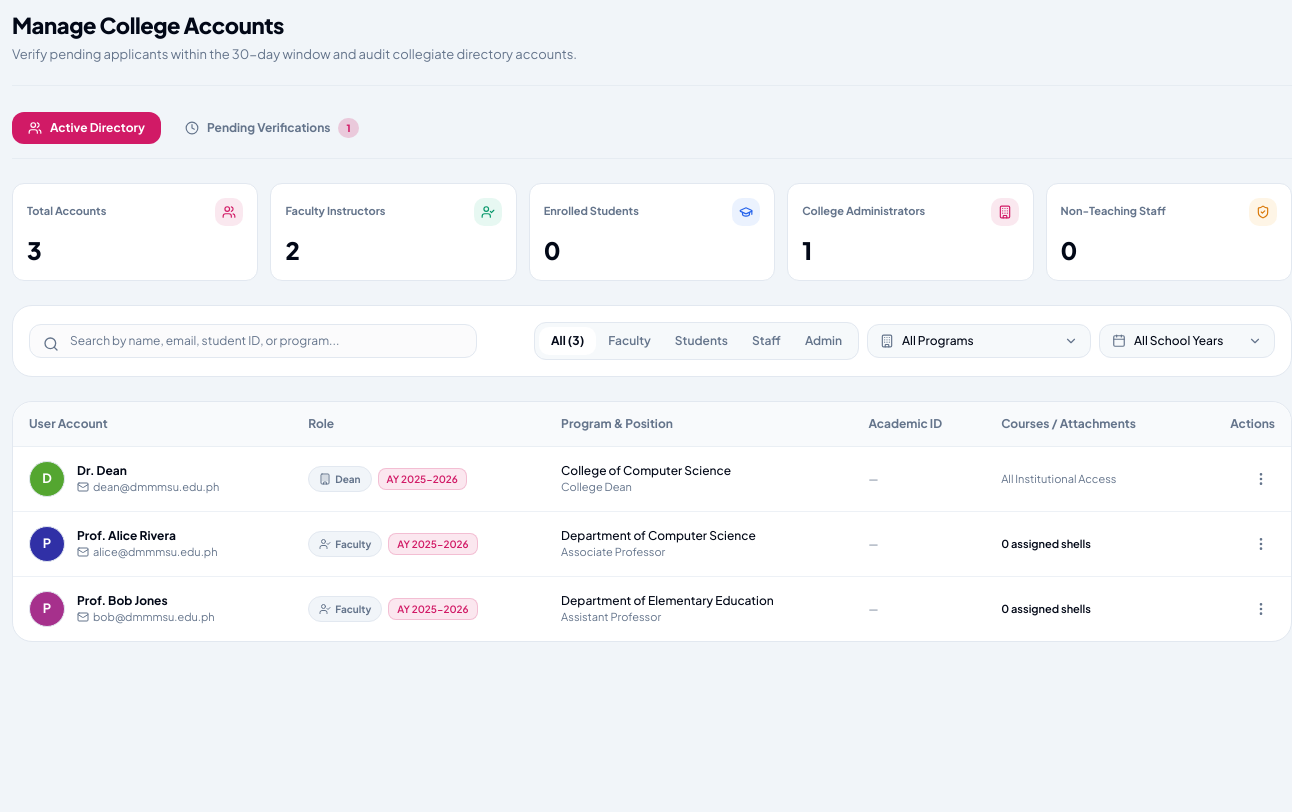
Scenario: ManageAccountsPage RBAC & Verification Queue › 3b. verifies Chairperson sees pending applicant when department names have Program in prefix or match via chairpersonId and code
Click the tab "Pending Verifications 1". click: click(272, 128)
box: [169,110,375,146]
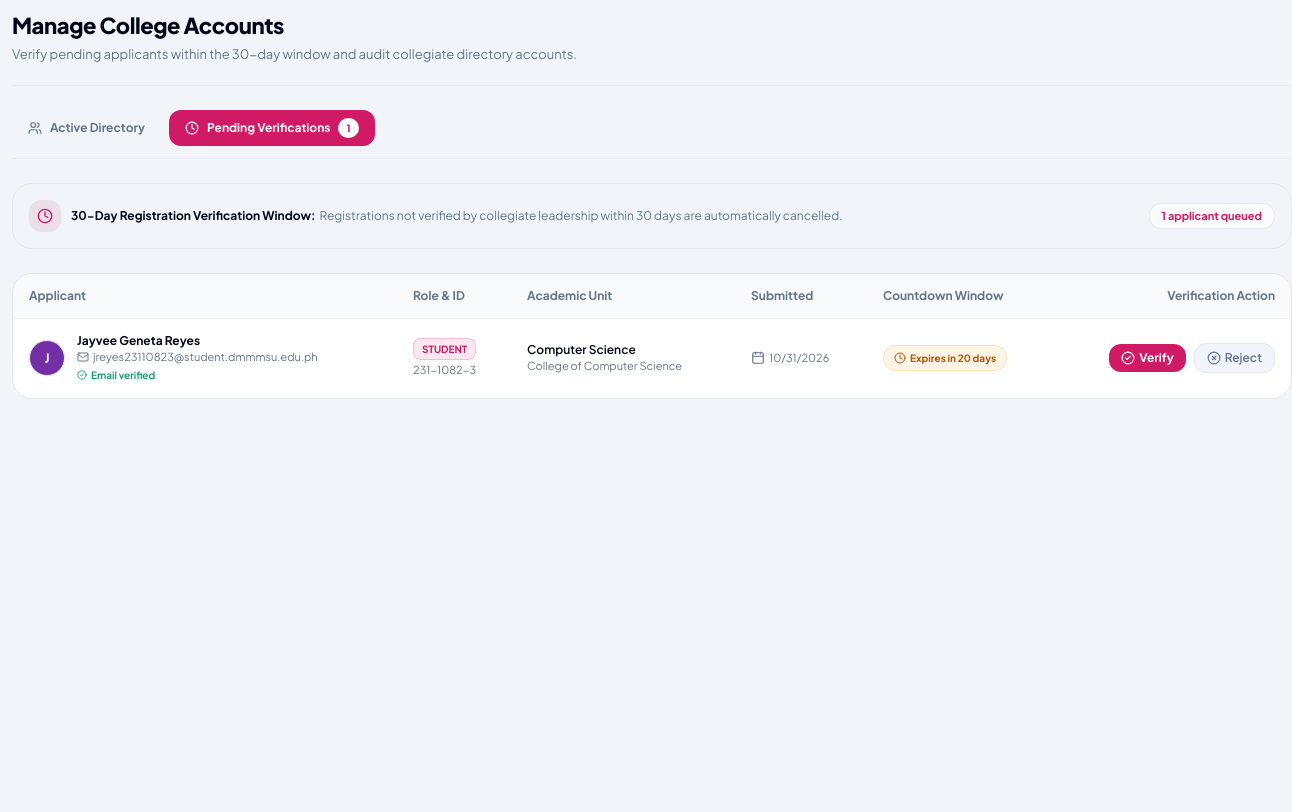
Now the text "Jayvee Geneta Reyes" is shown, box [77,333,200,348]
